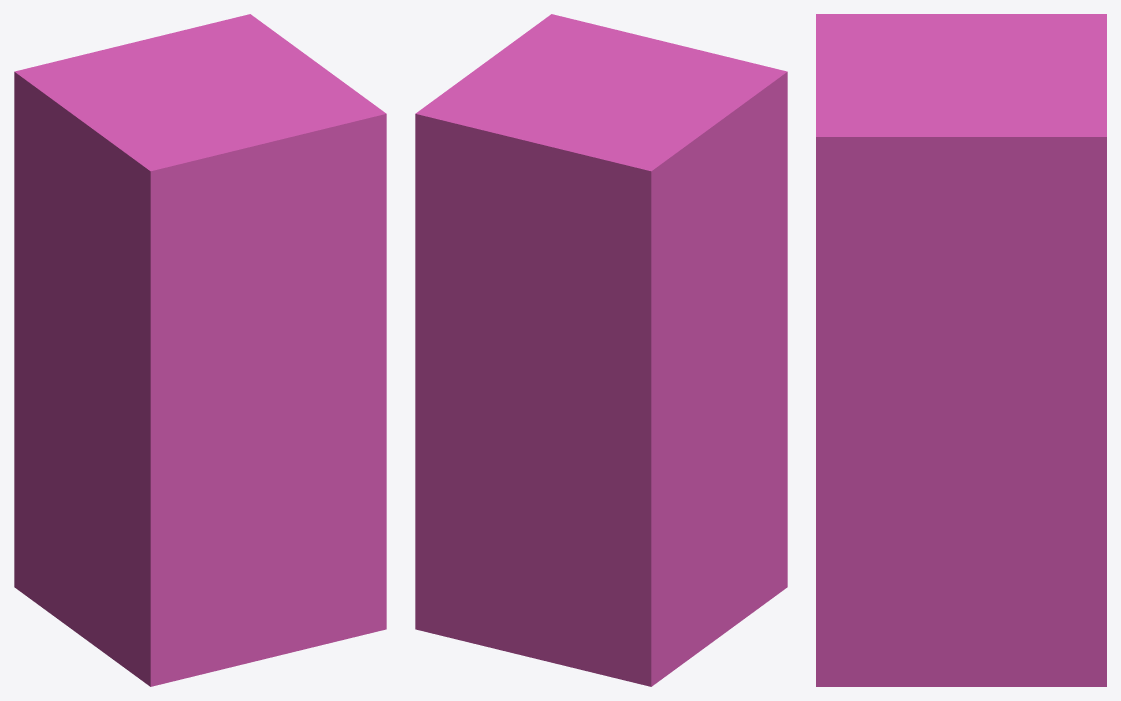
The model's file is playerV2.glb.
3 renders of one model, left to right at view 1: azimuth 30°, elevation 25°; view 2: azimuth 150°, elevation 25°; view 3: azimuth 270°, elevation 25°, orthographic. The views are drawn at different scales.
Parts seen in each view (by area): view 1: player_shell; view 2: player_shell; view 3: player_shell.
Boxes of the visible parts, x1,y1,x2,y2 form: player_shell: [14, 14, 386, 686]; player_shell: [415, 14, 787, 686]; player_shell: [816, 14, 1106, 686].
Size of the model in its own units: 0.736 by 1.54 by 0.736.
